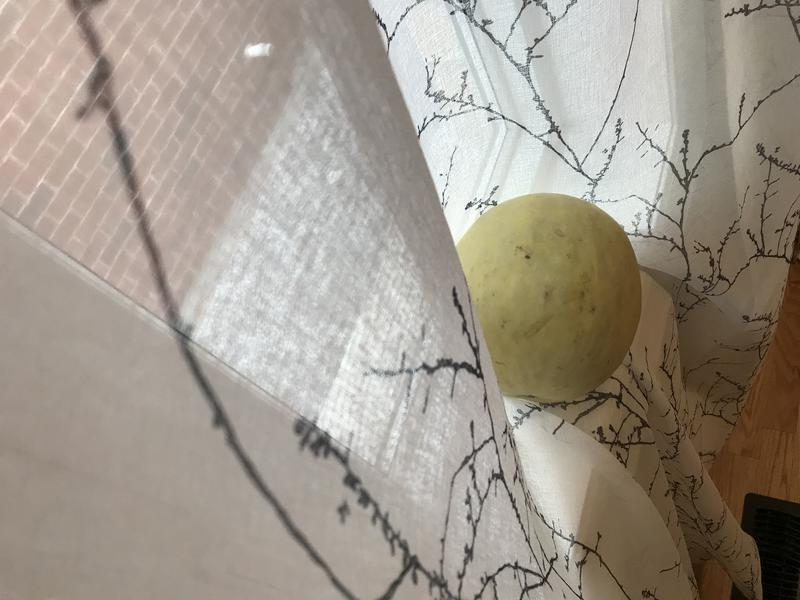honeydew: (439, 181, 647, 409)
